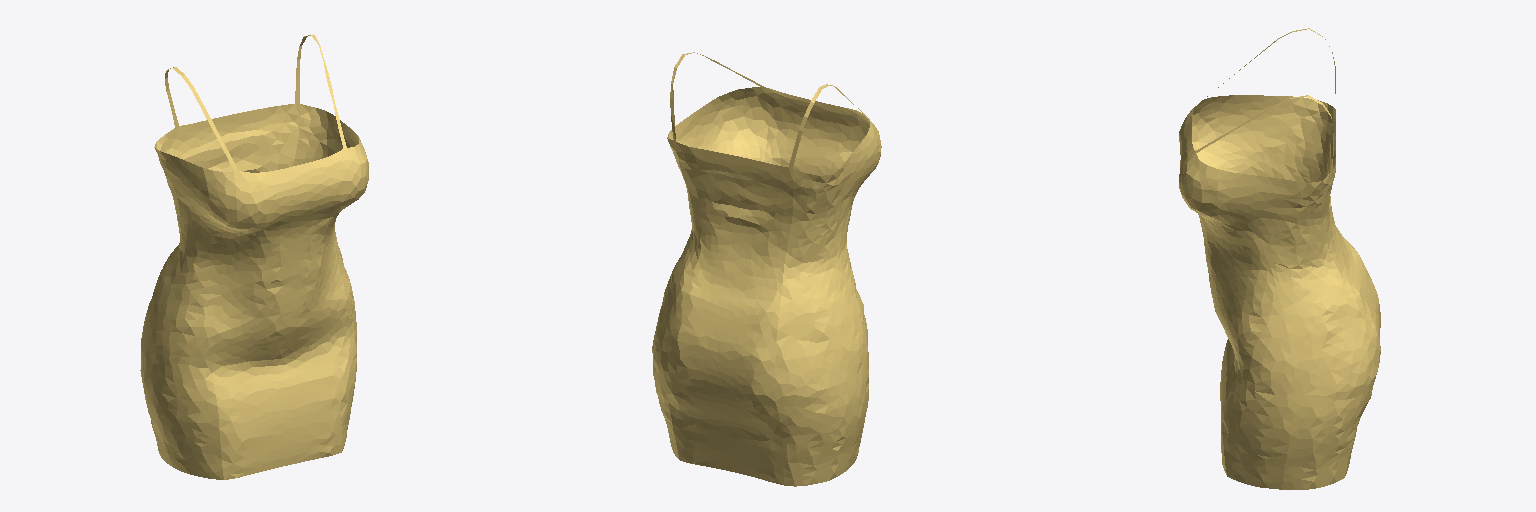
3 views of the same model, side by side, from view 1: azimuth 30°, elevation 25°; view 2: azimuth 150°, elevation 25°; view 3: azimuth 270°, elevation 25° (orthographic).
Parts seen in each view (by area): view 1: large_beigeBodycon_noinside:polySurface2 large_beigeBodycon_noin; view 2: large_beigeBodycon_noinside:polySurface2 large_beigeBodycon_noin; view 3: large_beigeBodycon_noinside:polySurface2 large_beigeBodycon_noin.
Boxes of the visible parts, x1,y1,x2,y2 form: large_beigeBodycon_noinside:polySurface2 large_beigeBodycon_noin: [140, 34, 368, 479]; large_beigeBodycon_noinside:polySurface2 large_beigeBodycon_noin: [652, 52, 881, 486]; large_beigeBodycon_noinside:polySurface2 large_beigeBodycon_noin: [1179, 28, 1380, 489].
Bounding box in the file's own units: 3.83 × 7.32 × 3.43.
Materials: 10 (1 with a texture image).